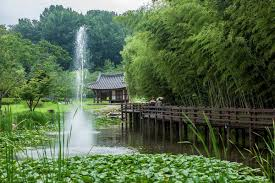bamboo: (127, 13, 275, 107)
